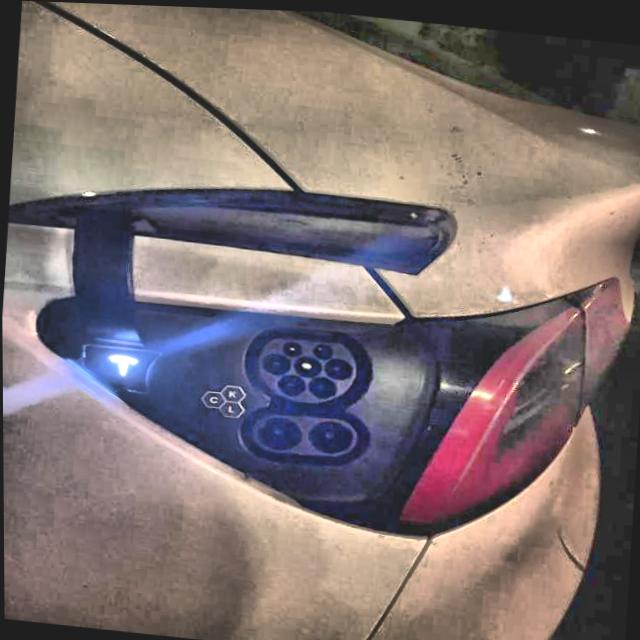inlet: (257, 335, 355, 400)
inlet-above-left: (282, 339, 301, 354)
inlet-above-right: (313, 341, 332, 356)
inlet-below-left: (277, 372, 304, 393)
inlet-below-right: (308, 375, 335, 395)
inlet-center: (293, 353, 321, 375)
inlet-center-left: (262, 351, 289, 372)
inlet-center-right: (324, 355, 351, 377)
